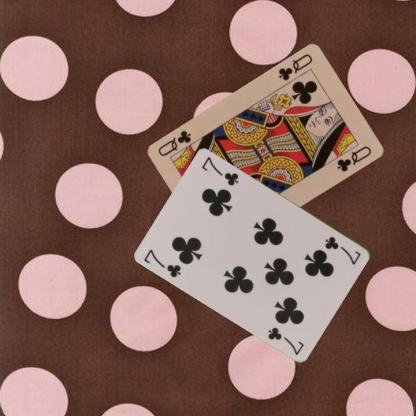7c: (322, 233, 363, 266), (142, 246, 182, 279)
Qc: (276, 52, 314, 82)
